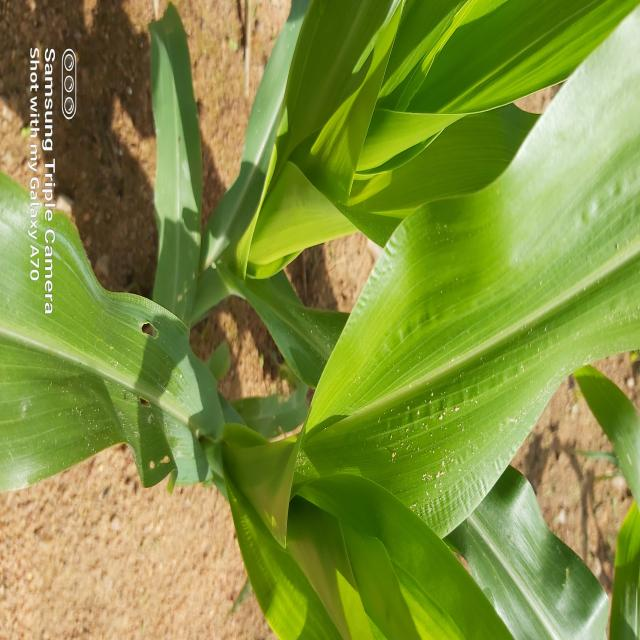fall-armyworm-frass: (415, 464, 445, 497)
fall-armyworm-larval-damage: (125, 308, 186, 444)
healthy-maize: (333, 9, 512, 182), (264, 476, 402, 614), (407, 251, 565, 358), (558, 105, 639, 242)
